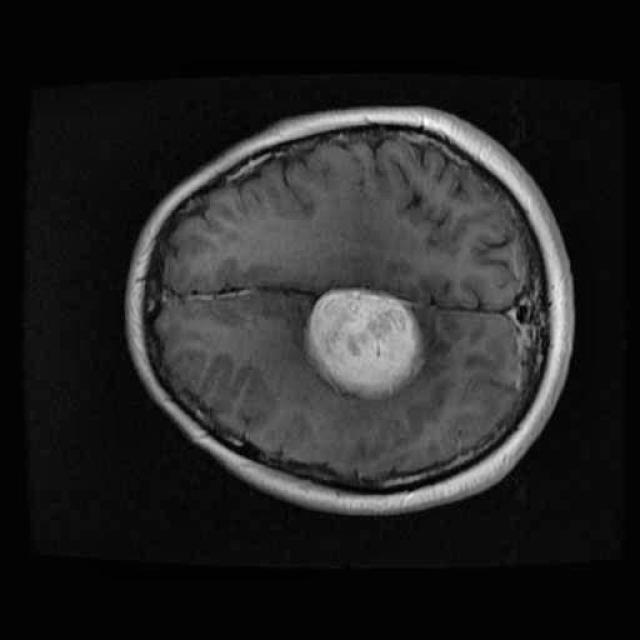Tumor: (298, 278, 429, 402)
